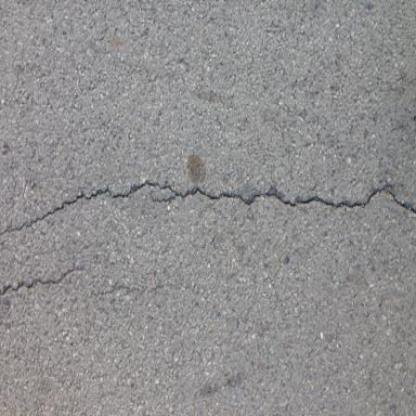Cracks: (2, 159, 416, 256), (0, 260, 113, 308)
